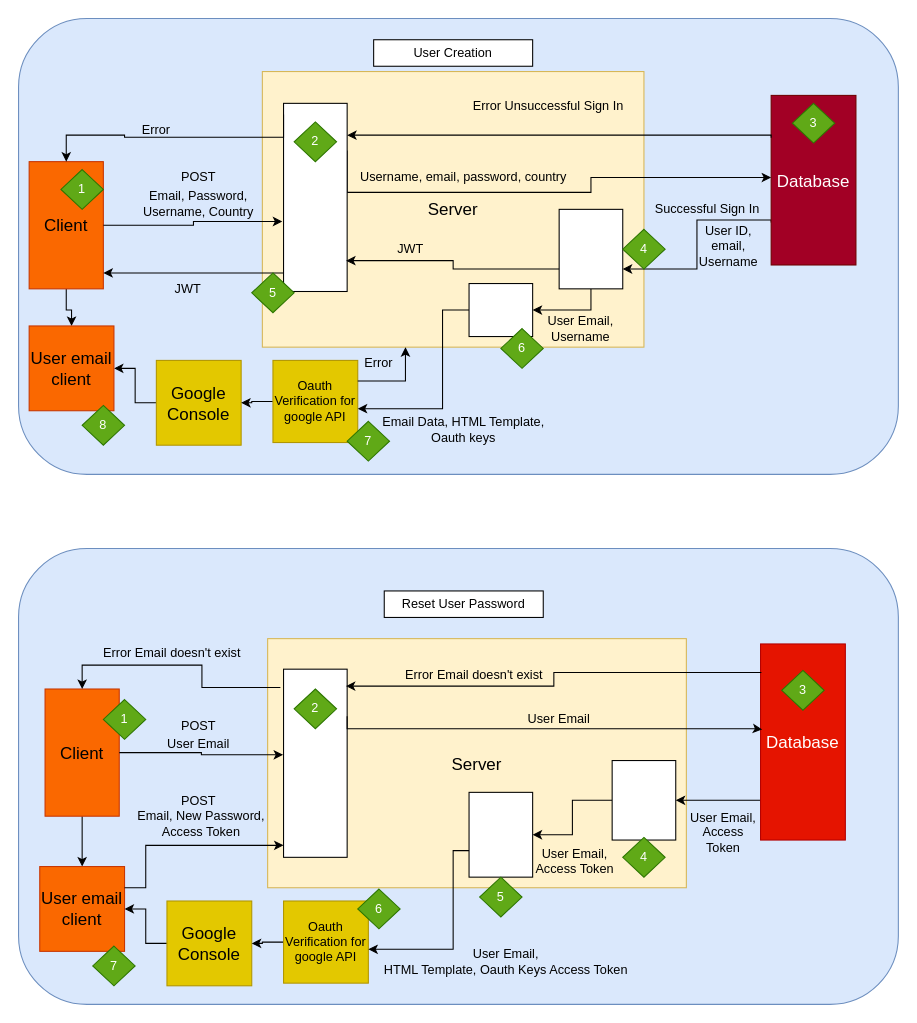
Some shapes in this 917 by 1023 pixel diagram are drawn without their labels. Here are the shapes that lost their labels. From the top down, the box of each, then its label:
(282, 102, 347, 292): Verify User details
(558, 208, 623, 289): Create JWT
(468, 282, 533, 337): Create Welcome Email
(282, 668, 347, 857): Verify User Email Exists
(611, 759, 676, 840): Create Link to Reset Password
(468, 791, 533, 877): Create Email to users Account
